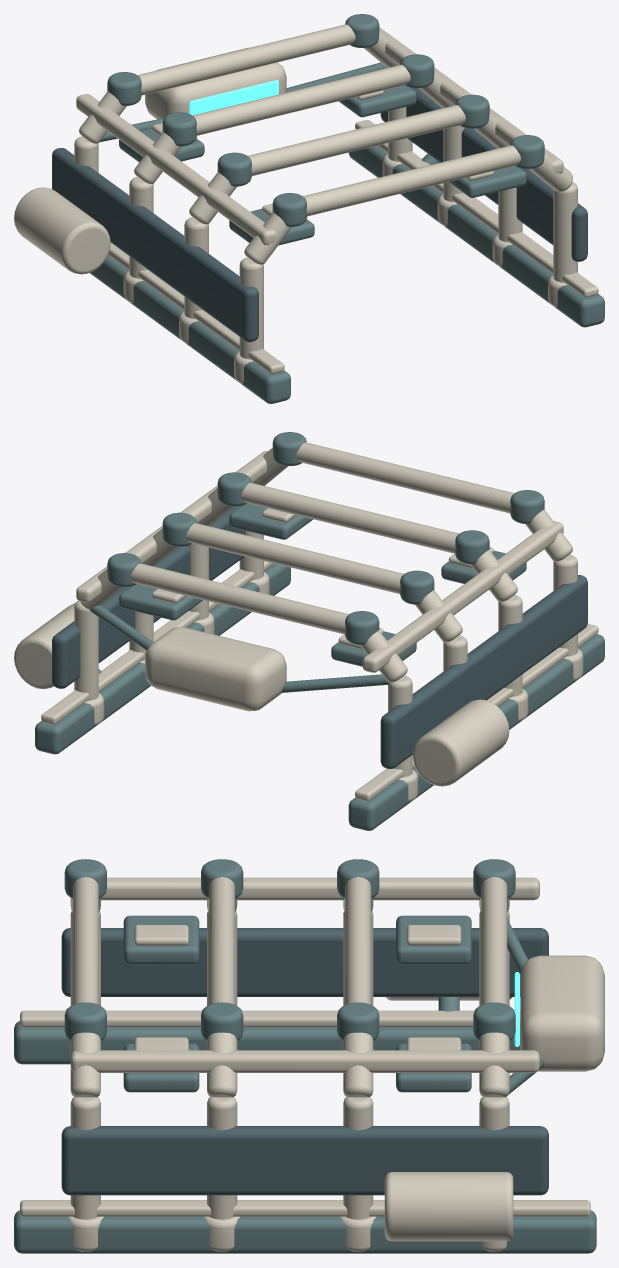
Rendered from shipyard.glb.
3 renders of one model, top to bottom at view 1: azimuth 30°, elevation 25°; view 2: azimuth 150°, elevation 25°; view 3: azimuth 270°, elevation 25°, orthographic. The views are drawn at different scales.
Visible parts, largest first — view 1: Architecture; view 2: Architecture; view 3: Architecture.
Part boxes in pixels (<box>): Architecture: <box>14,14,604,403</box>; Architecture: <box>14,432,604,830</box>; Architecture: <box>14,859,604,1253</box>.
Size of the model in its own units: 4.22 by 1.58 by 3.9.
